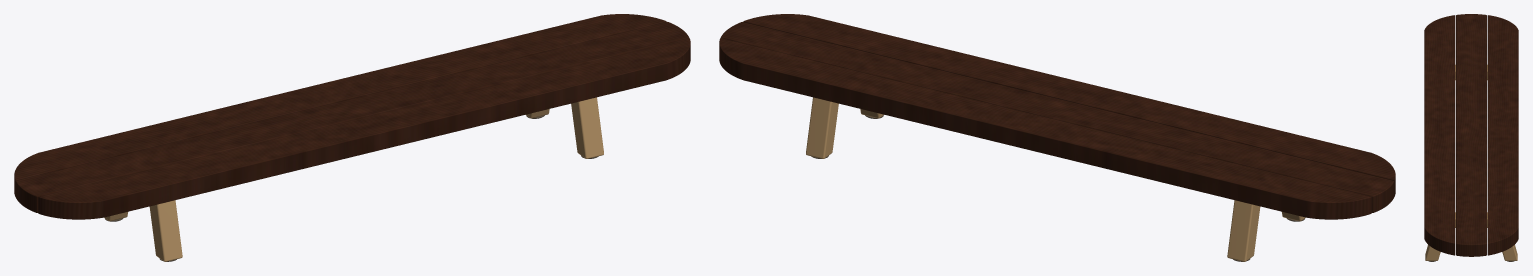
Rendered from bench.glb.
The picture shows the model from 3 angles, left to right: view 1: azimuth 30°, elevation 25°; view 2: azimuth 150°, elevation 25°; view 3: azimuth 270°, elevation 25°; orthographic projection. The views are drawn at different scales.
Visible parts, largest first — view 1: Walnut sculpted seat plank 1, Walnut sculpted seat plank 2, Walnut sculpted seat plank 3, Cast bronze arched trestle, Cast bronze arched trestle.001; view 2: Walnut sculpted seat plank 3, Walnut sculpted seat plank 2, Walnut sculpted seat plank 1, Cast bronze arched trestle, Cast bronze arched trestle.001; view 3: Walnut sculpted seat plank 2, Walnut sculpted seat plank 1, Walnut sculpted seat plank 3, Cast bronze arched trestle.001.
Part boxes in pixels (x1,y1,x2,y2): Walnut sculpted seat plank 1: (38,38,690,219); Walnut sculpted seat plank 2: (15,22,689,212); Walnut sculpted seat plank 3: (14,14,666,196); Cast bronze arched trestle: (104,200,182,261); Cast bronze arched trestle.001: (526,97,603,158); Walnut sculpted seat plank 3: (719,38,1371,219); Walnut sculpted seat plank 2: (720,22,1394,212); Walnut sculpted seat plank 1: (743,14,1395,196); Cast bronze arched trestle: (1227,200,1305,261); Cast bronze arched trestle.001: (806,97,883,158); Walnut sculpted seat plank 2: (1456,14,1486,256); Walnut sculpted seat plank 1: (1424,15,1455,255); Walnut sculpted seat plank 3: (1487,15,1518,255); Cast bronze arched trestle.001: (1425,212,1517,260).
Size of the model in its own units: 4 by 0.4657 by 0.69.
Materials: 3 (1 with a texture image).
